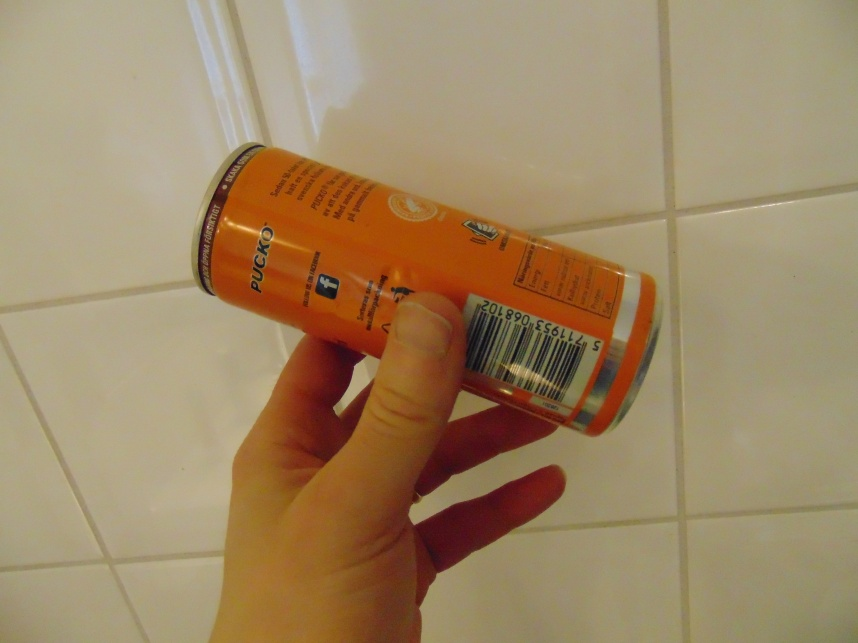metal_can: (188, 141, 663, 440)
